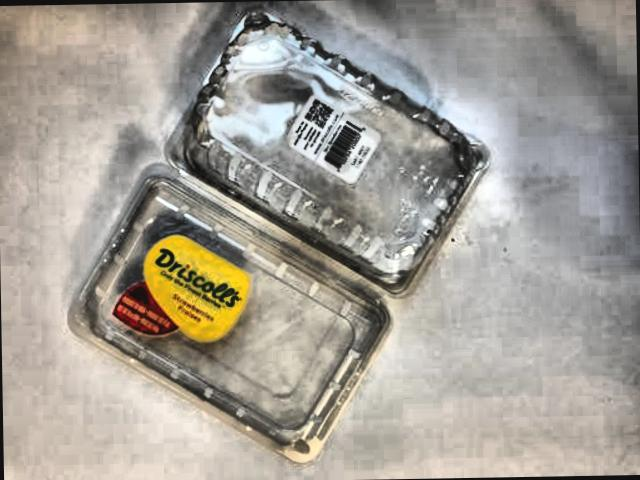Plastic: (60, 0, 496, 468)
